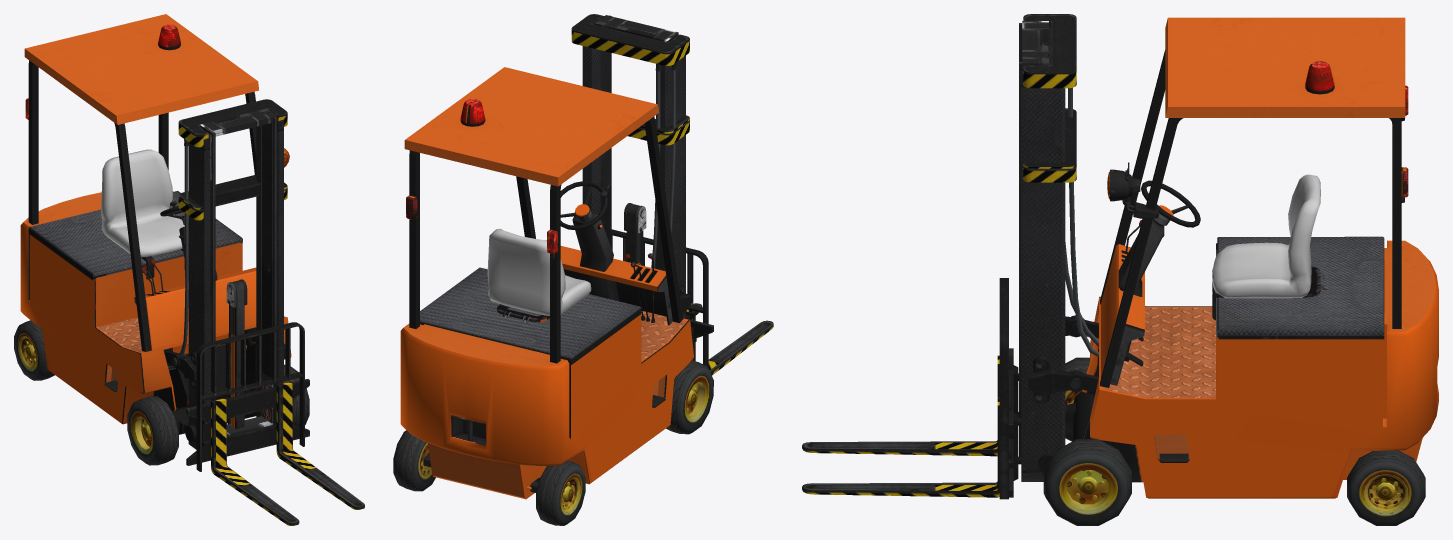
Rendered from Forklift01.FBX.
3 renders of one model, left to right at view 1: azimuth 30°, elevation 25°; view 2: azimuth 150°, elevation 25°; view 3: azimuth 270°, elevation 25°, orthographic. The views are drawn at different scales.
Parts seen in each view (by area): view 1: Forklift01, Forklift_wheel1, Forklift_wheels, Forklift_wheel2; view 2: Forklift01, Forklift_wheels, Forklift_wheel1; view 3: Forklift01, Forklift_wheel2, Forklift_wheels.
Part boxes in pixels (x1=…): Forklift01: x1=20, y1=14, x2=364, y2=525; Forklift_wheel1: x1=127, y1=396, x2=178, y2=465; Forklift_wheels: x1=14, y1=320, x2=54, y2=380; Forklift_wheel2: x1=284, y1=364, x2=309, y2=426; Forklift01: x1=400, y1=14, x2=773, y2=499; Forklift_wheels: x1=393, y1=430, x2=585, y2=525; Forklift_wheel1: x1=666, y1=360, x2=713, y2=434; Forklift01: x1=802, y1=14, x2=1438, y2=499; Forklift_wheel2: x1=1043, y1=439, x2=1131, y2=525; Forklift_wheels: x1=1347, y1=450, x2=1425, y2=525.
Size of the model in its own units: 1.14 by 2.37 by 3.09.
